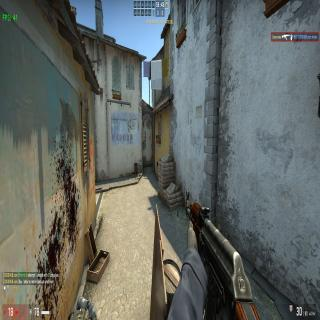CT-Head: (159, 158, 161, 162)
